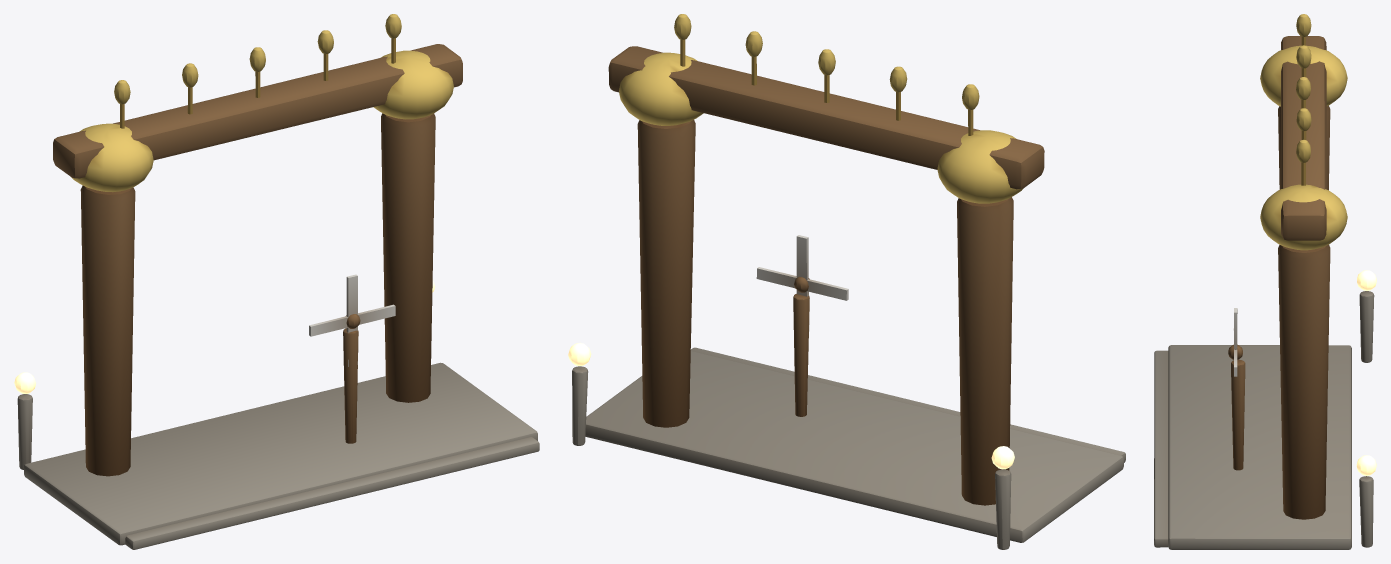
3 views of the same model, side by side, from view 1: azimuth 30°, elevation 25°; view 2: azimuth 150°, elevation 25°; view 3: azimuth 270°, elevation 25° (orthographic). The views are drawn at different scales.
Visible parts, largest first — view 1: gate_8c1c7df1; view 2: gate_8c1c7df1; view 3: gate_8c1c7df1.
Boxes of the visible parts, left/top/right/bottom form: gate_8c1c7df1: left=14, top=14, right=539, bottom=549; gate_8c1c7df1: left=568, top=14, right=1125, bottom=549; gate_8c1c7df1: left=1154, top=14, right=1376, bottom=549.
Size of the model in its own units: 5.26 by 4.76 by 2.55.
